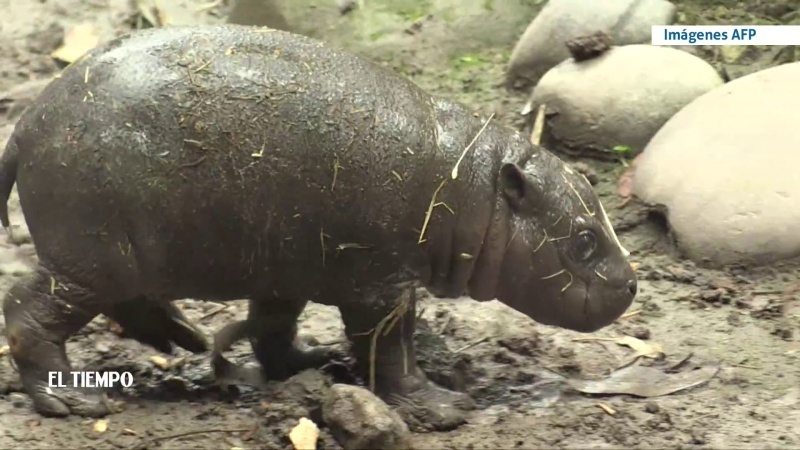hipopotamo: (1, 19, 656, 442)
